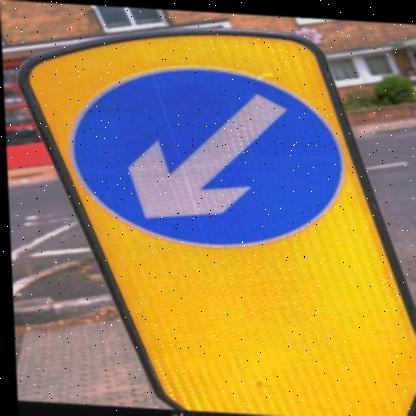Keep left: (53, 56, 356, 253)
